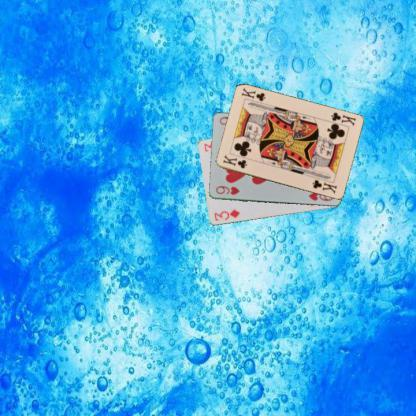3d: (211, 207, 240, 222)
9h: (213, 183, 240, 197)
Kc: (220, 152, 248, 170), (328, 110, 357, 127)
